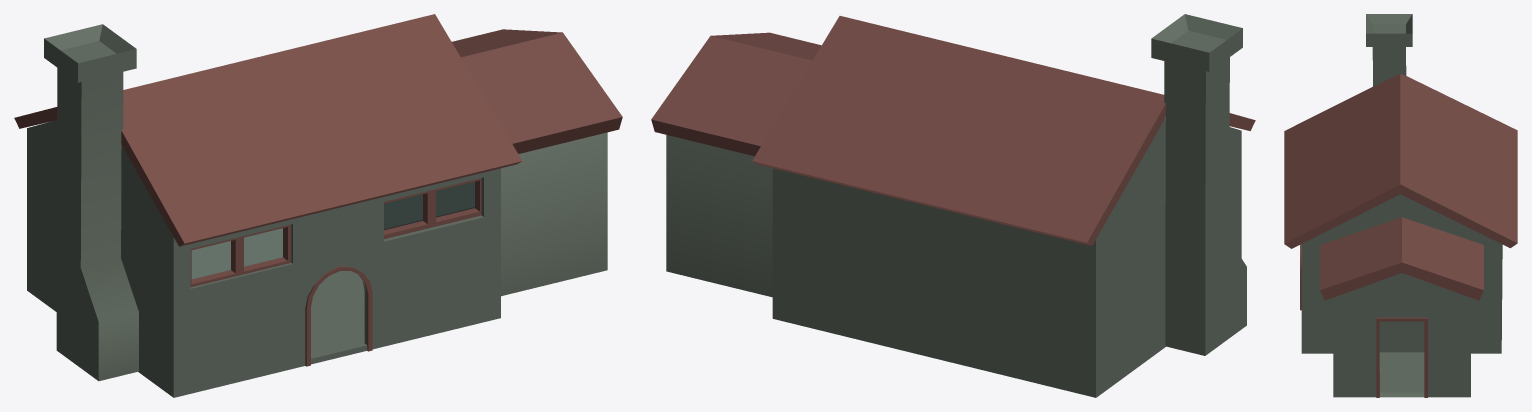
Rendered from house9.fbx.
3 renders of one model, left to right at view 1: azimuth 30°, elevation 25°; view 2: azimuth 150°, elevation 25°; view 3: azimuth 270°, elevation 25°, orthographic. The views are drawn at different scales.
Parts seen in each view (by area): view 1: HOUSE; view 2: HOUSE; view 3: HOUSE.
Part boxes in pixels (x1,y1,x2,y2): HOUSE: (14,14,622,397); HOUSE: (651,14,1255,397); HOUSE: (1284,14,1517,397).
Size of the model in its own units: 1698 by 993 by 980.
